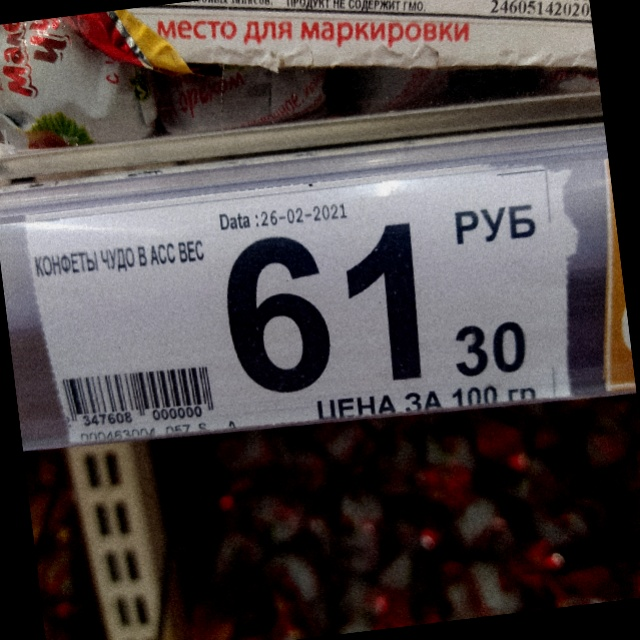barcode: (57, 365, 218, 429)
name: (33, 237, 208, 282)
price: (217, 224, 532, 400)
price_tag: (28, 163, 568, 447)
